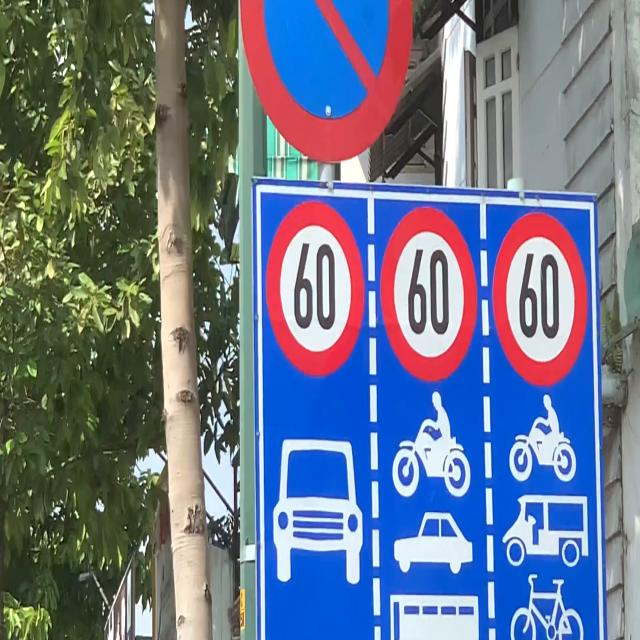P.127: (265, 198, 366, 378), (379, 205, 478, 383), (491, 210, 588, 389)
P.131a: (236, 0, 414, 168)
